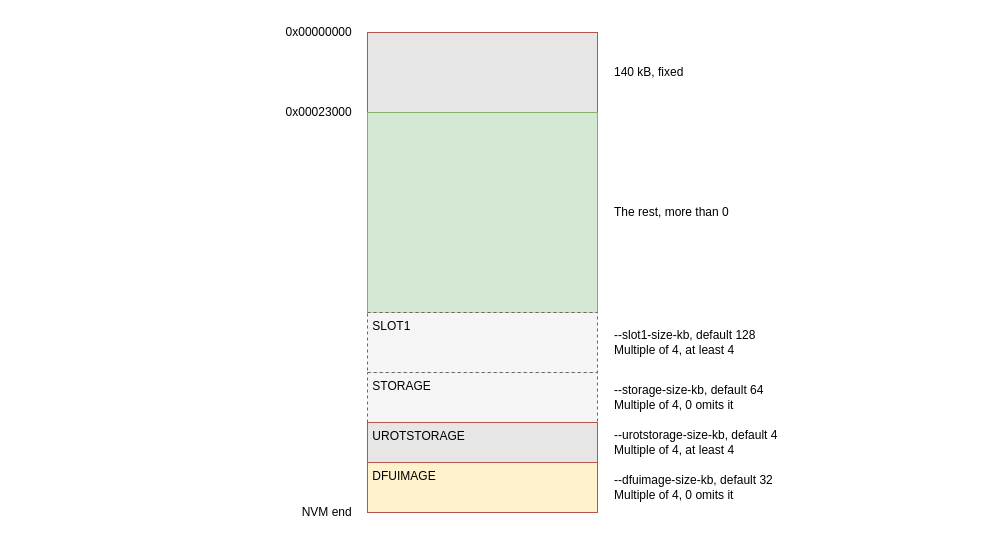
The diagram is 989 pixels wide and 544 high, and some of its shapes have lost their labels. Here are the shapes that lost their labels. From the top down, the centre of each, then its label:
(x=482, y=72): Reserved
(x=482, y=212): SLOT0
